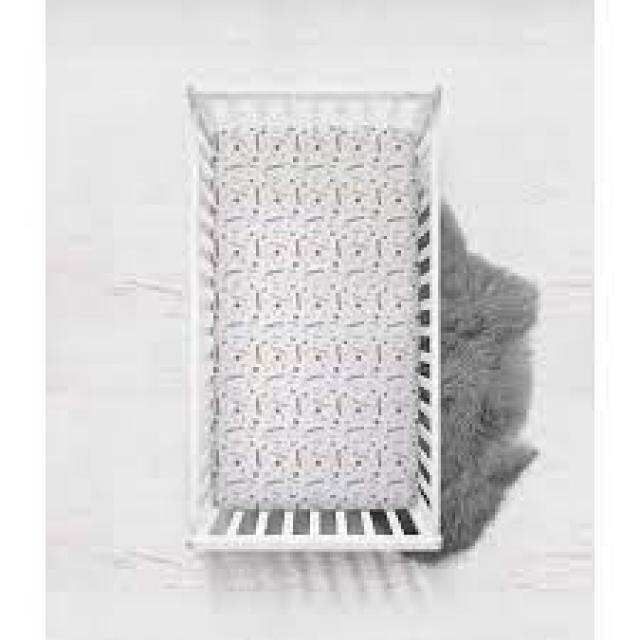crib: (179, 80, 447, 554)
